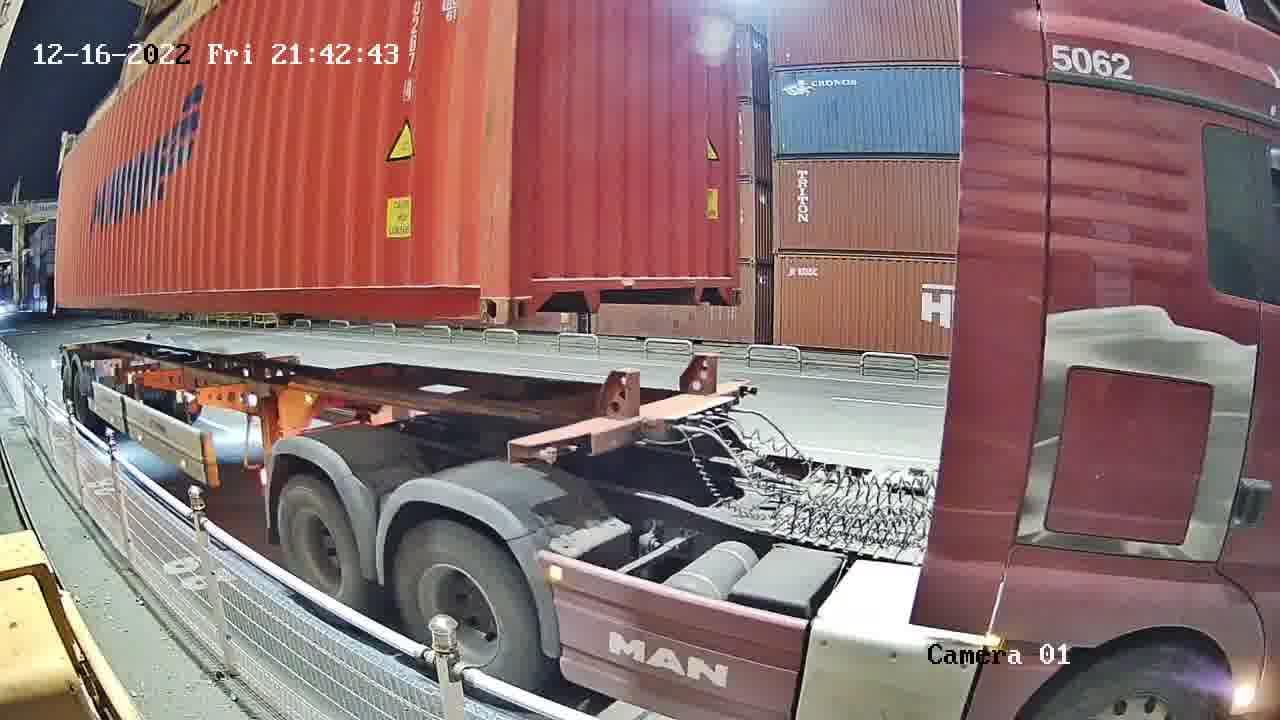Chassis: (507, 377, 757, 473)
Hole_L: (513, 251, 559, 322)
Hole_R: (444, 252, 510, 325), (701, 252, 744, 306)
Tire: (386, 523, 540, 689), (275, 482, 362, 608)
